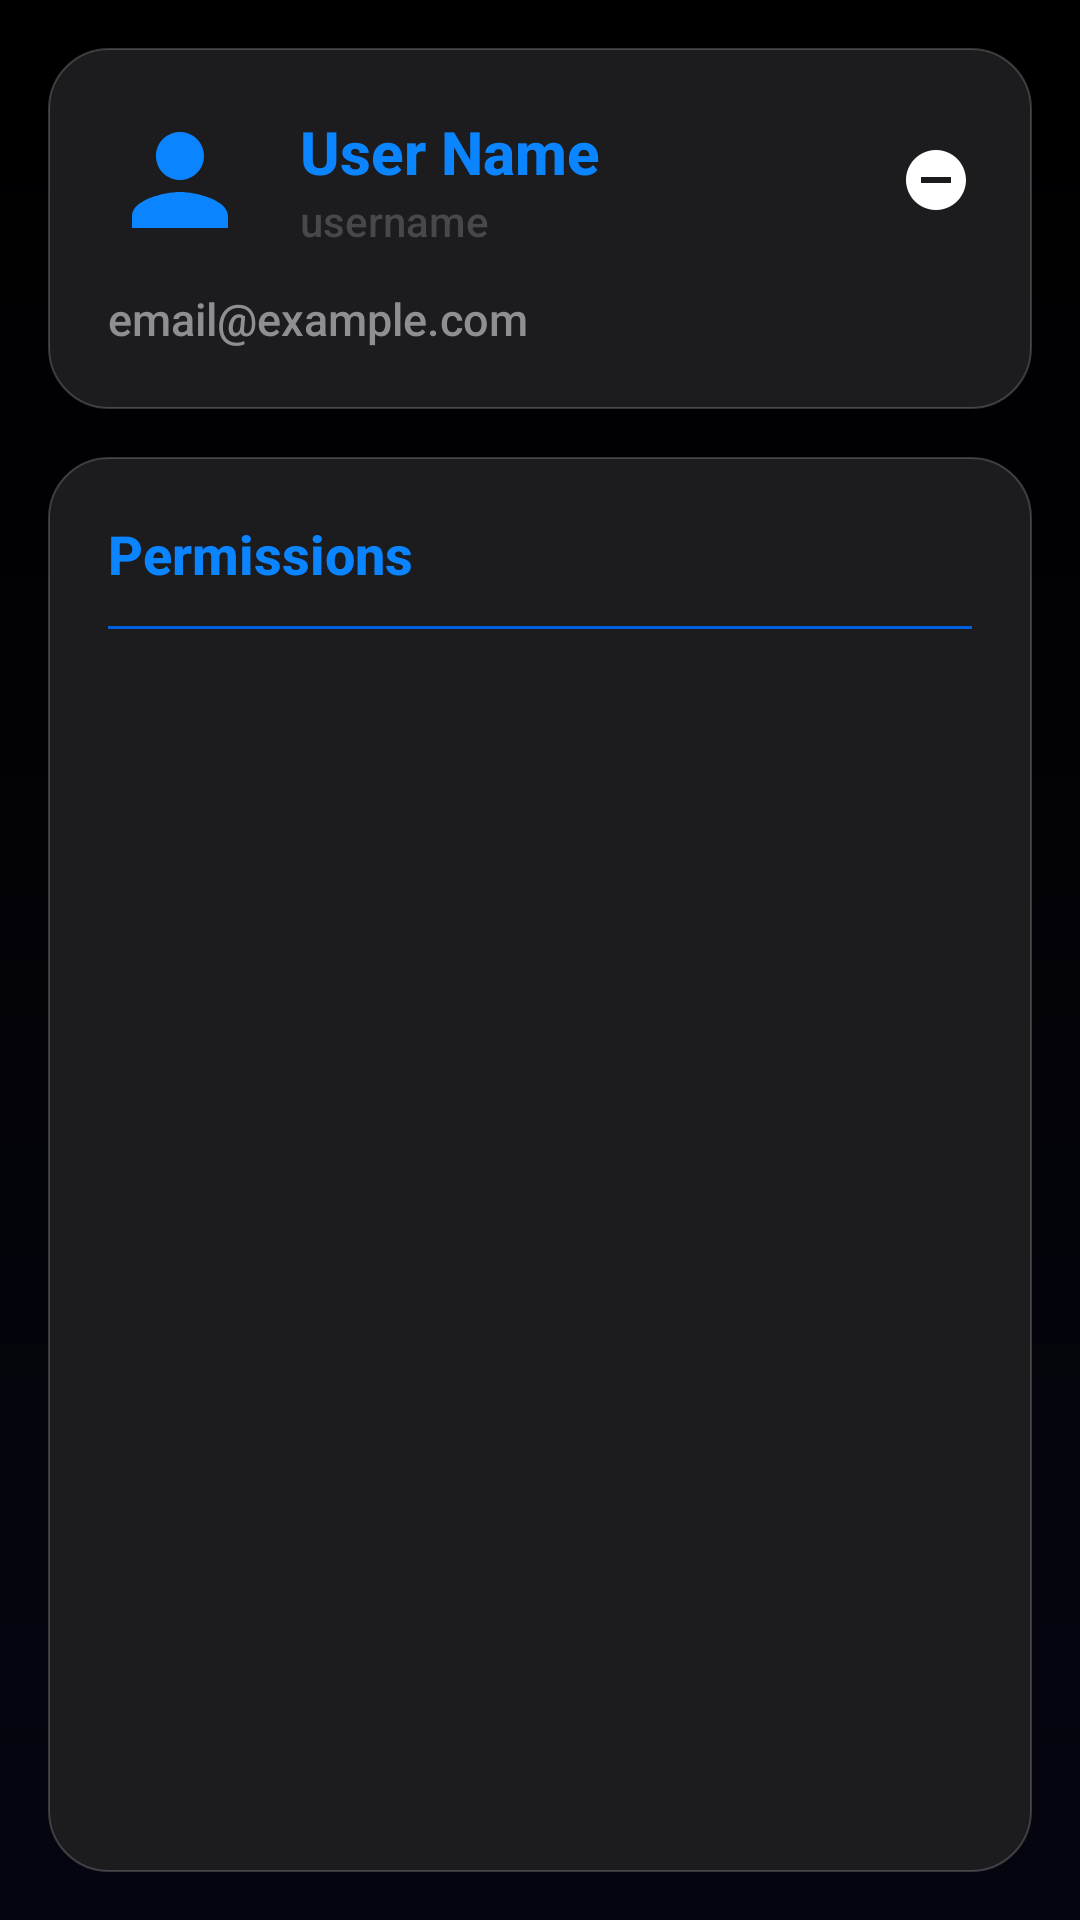

Locate icon controls on the screen. Image size 1080*1920, boxes as bbox=(x1, y1, x2, y2).
deactivated: bbox=(906, 150, 966, 210)
